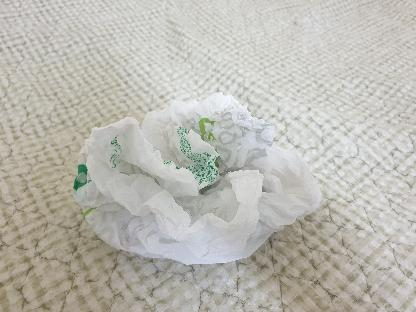Plastic Bag: (70, 87, 330, 268)
